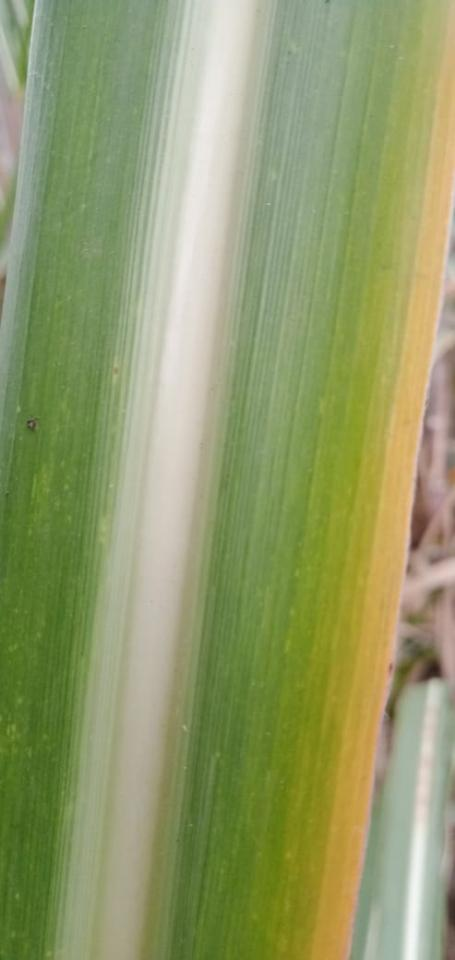Rust: (22, 413, 43, 435)
Yellow: (312, 0, 454, 959)
